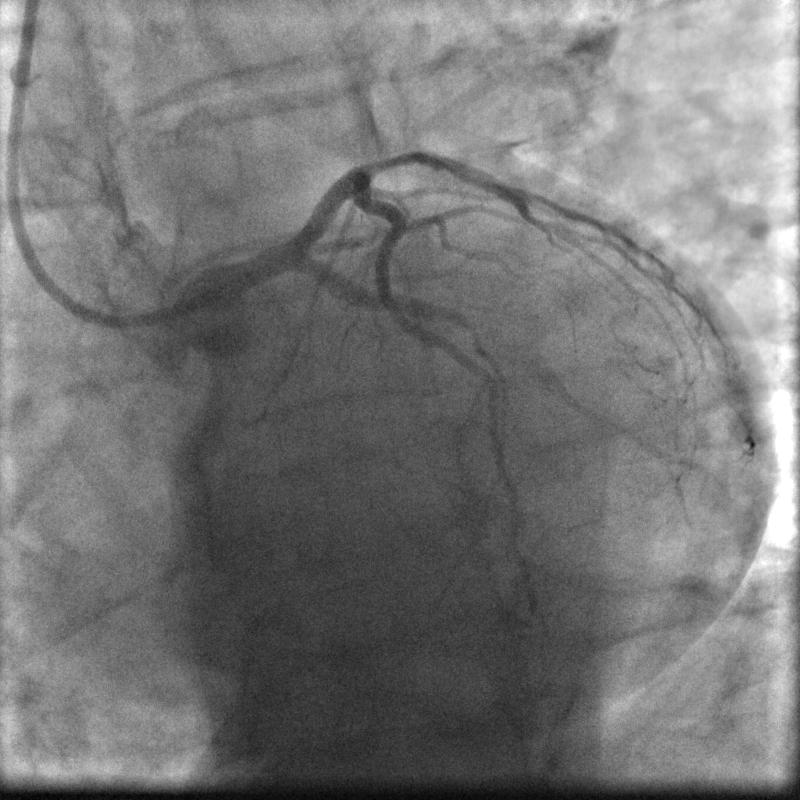Stenosis: (365, 133, 423, 177)
